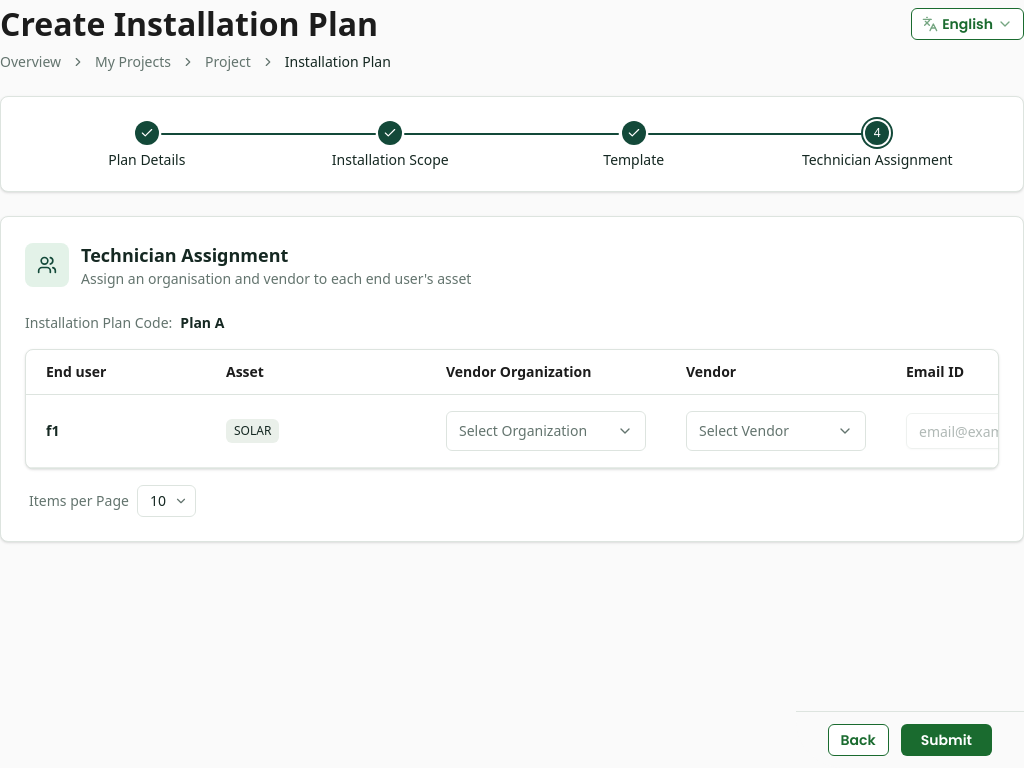
Test: CreateInstallationPlanPage › submits: validates the assignment, publishes, and shows the success card
Click the button "Submit" at (946, 740), box [901,724,992,756]
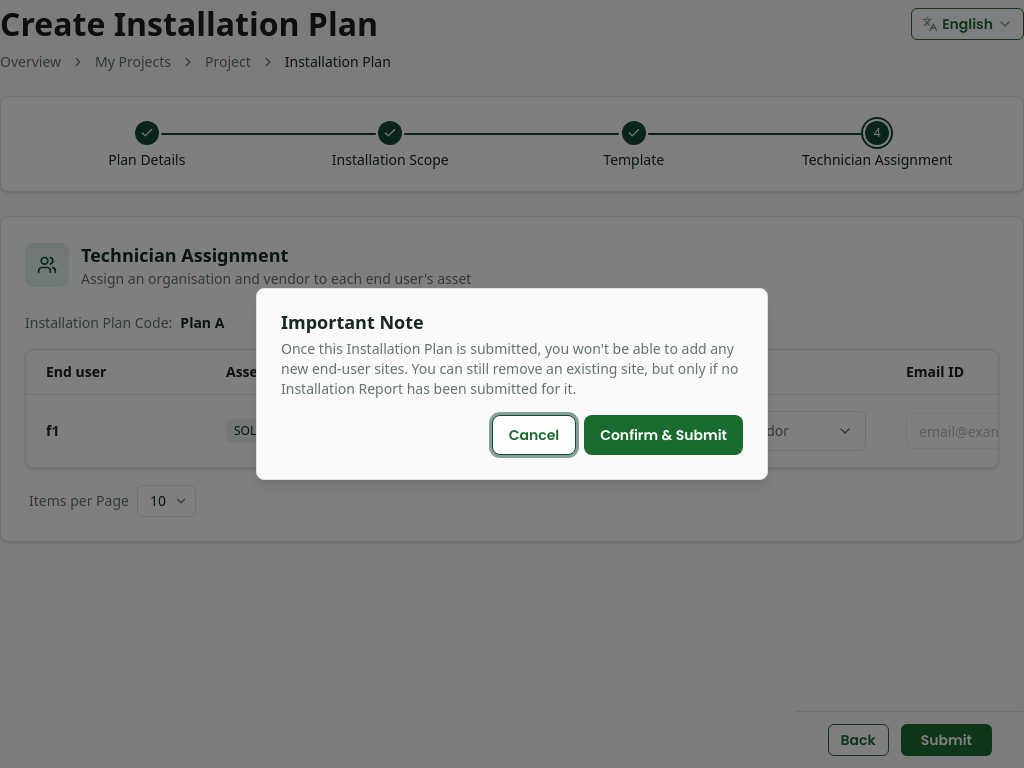
Now the dialog is shown, box [256,288,768,480]
Click the button "Confirm & Submit" at (664, 435), box [584,415,743,455]
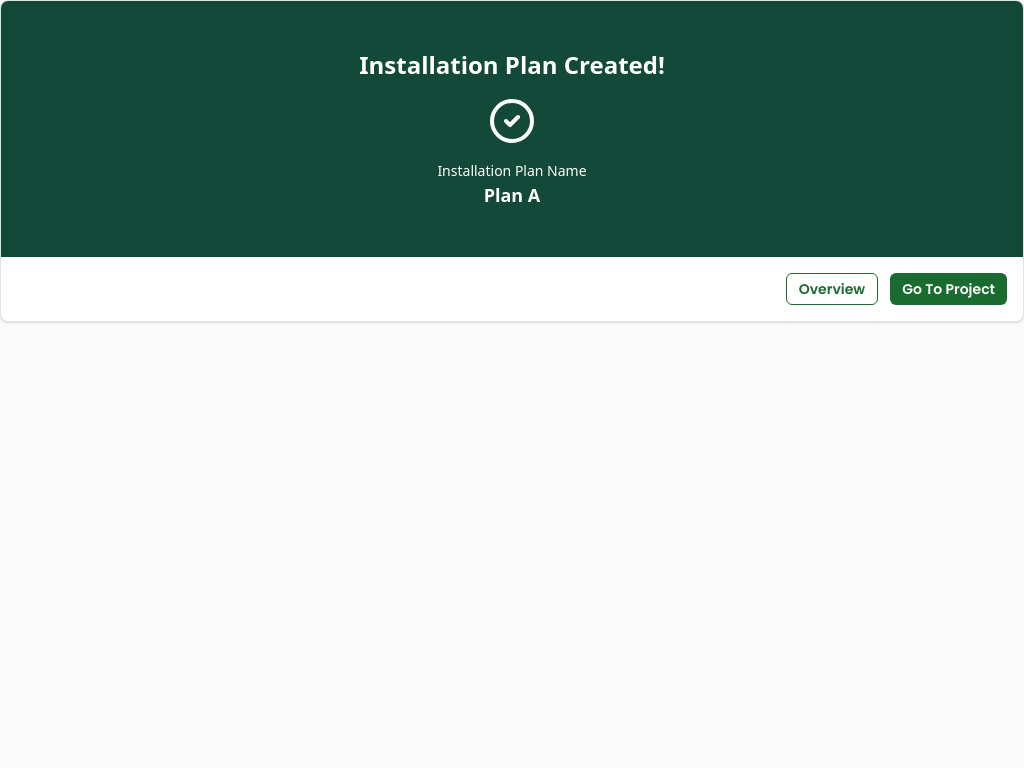
Now the heading "Installation Plan Created!" is shown, box [359,49,665,81]
